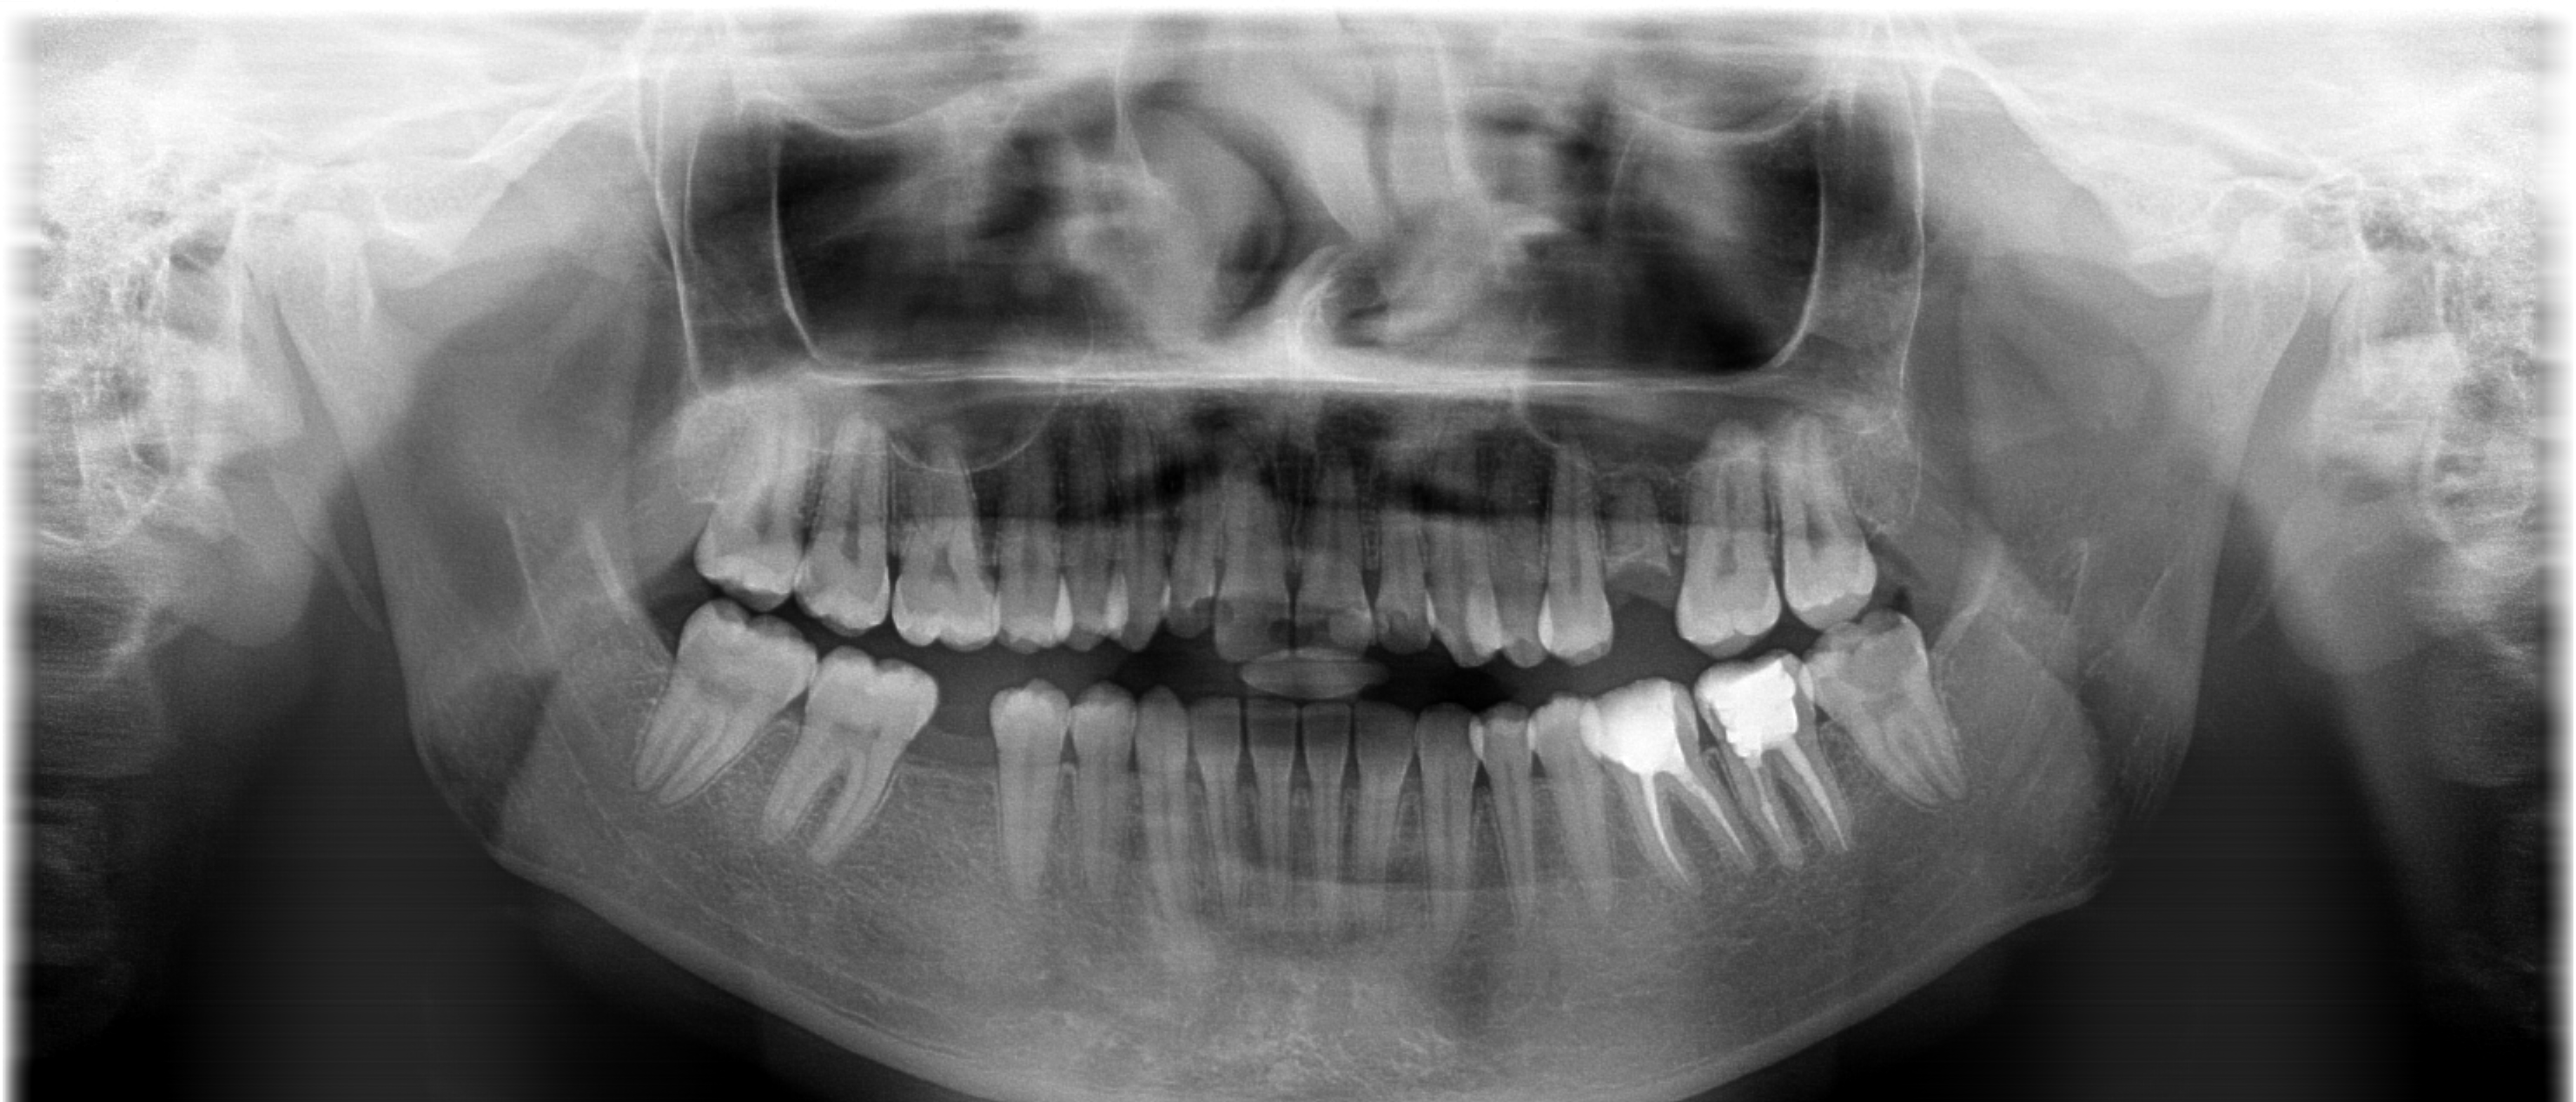cordal: (1791, 596, 2001, 834), (623, 578, 828, 821), (1761, 407, 1934, 642), (678, 389, 830, 619)
tratamiento_conducto: (1692, 647, 1874, 900), (1577, 672, 1763, 907)
zona_dentula: (849, 668, 1030, 895), (1577, 425, 1707, 660)
